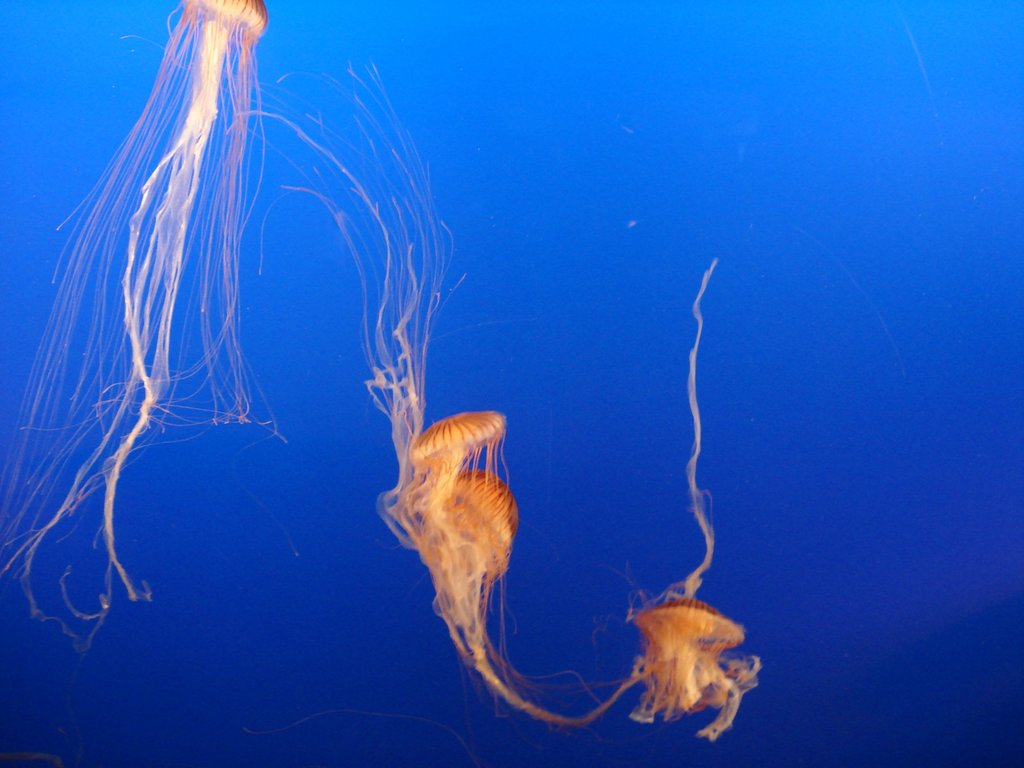Jellyfish: (0, 0, 289, 653), (233, 100, 515, 556), (376, 458, 667, 730), (620, 256, 762, 734)
